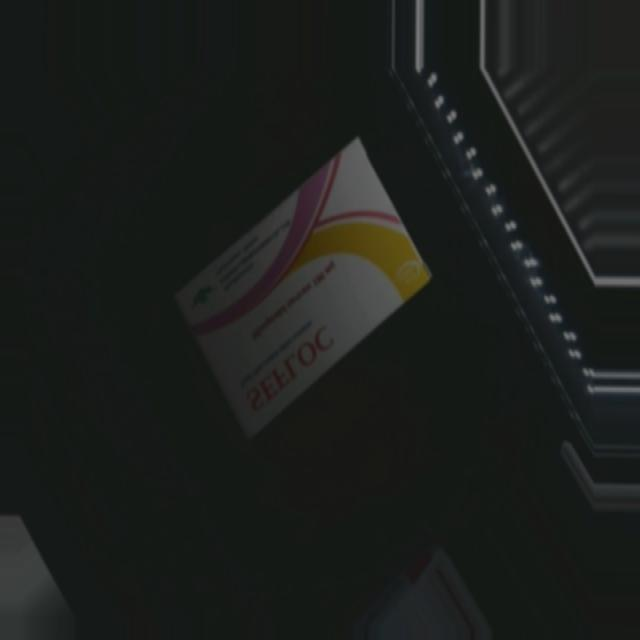medicine_name_detection: (170, 134, 429, 434)
